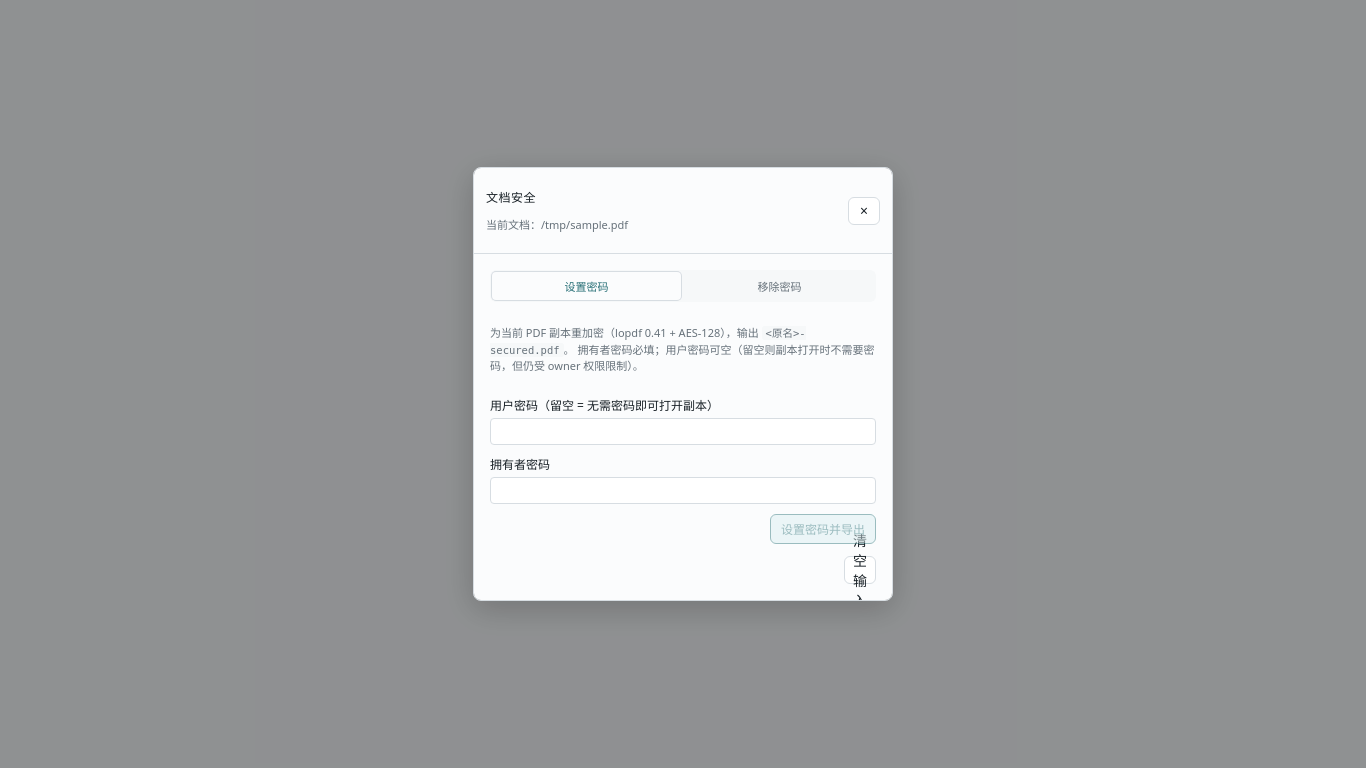
Test case: SecurityPanel (ISS-064 阶段 1 + DEC-102 P1-4) › set 模式失败路径：EncryptionError 错误 → 显示友好文案
Type "owner-pwd" into the password field labelled "拥有者密码" at (683, 490), box [490,477,876,504]
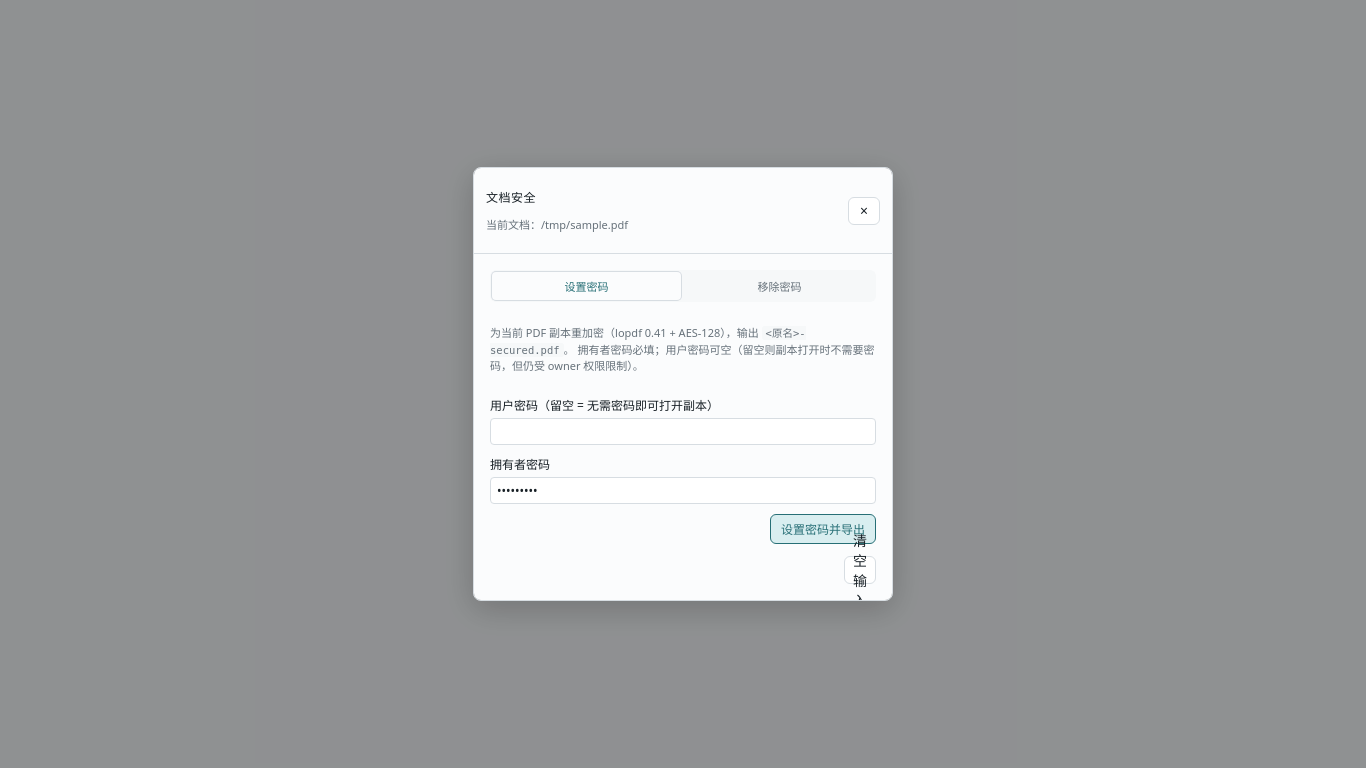
Click the button "设置密码并导出" at (823, 529), box [770,514,876,544]
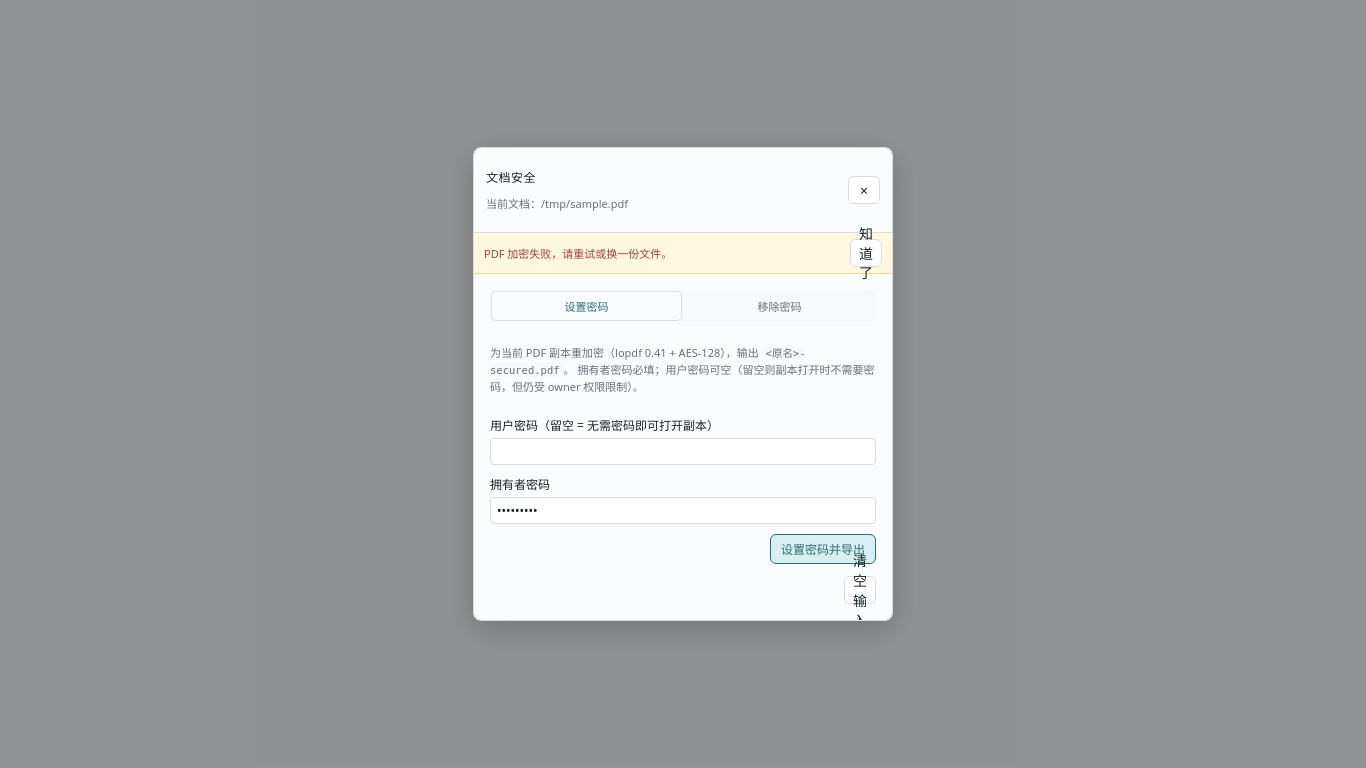
Expected: the message shows "PDF 加密失败", [484,246,672,261]
